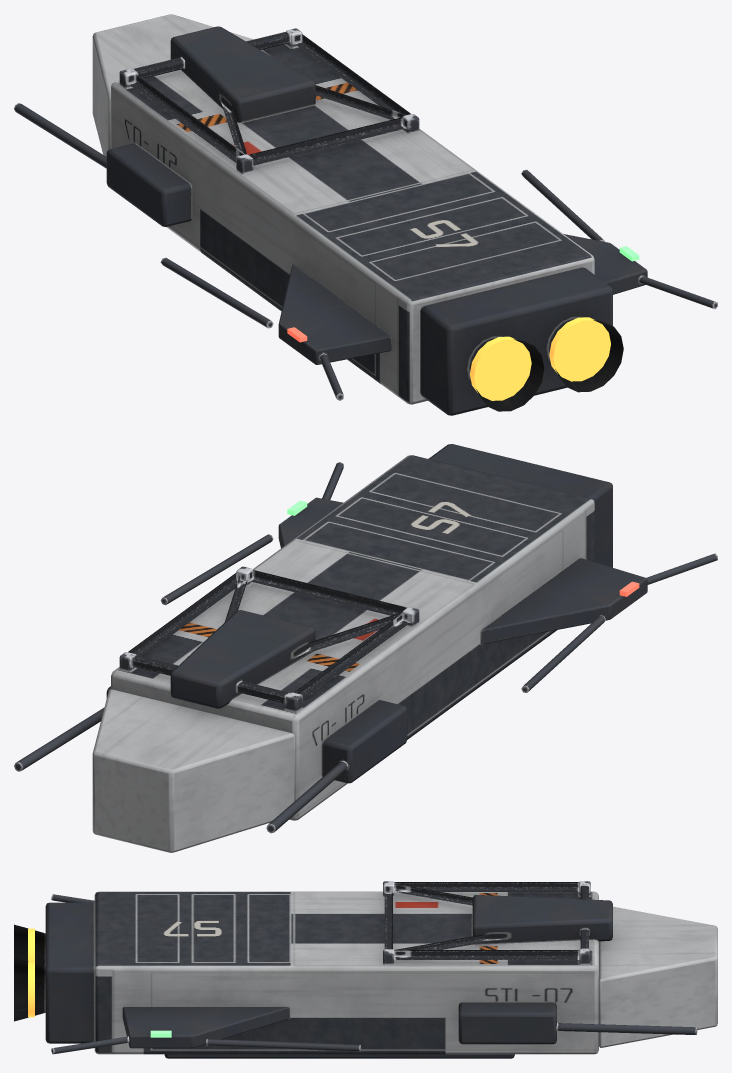
File: stiletto.glb
3 views of the same model, one above another, from view 1: azimuth 30°, elevation 25°; view 2: azimuth 150°, elevation 25°; view 3: azimuth 270°, elevation 25° (orthographic). The views are drawn at different scales.
Parts seen in each view (by area): view 1: Hull, Glow; view 2: Hull; view 3: Hull, Glow.
Boxes of the visible parts, bbox=[...] form: Hull: bbox=[14, 14, 717, 415]; Glow: bbox=[287, 246, 639, 400]; Hull: bbox=[14, 444, 717, 852]; Hull: bbox=[14, 881, 717, 1058]; Glow: bbox=[28, 928, 171, 1037].
Size of the model in its own units: 5.28 by 1.95 by 10.05.
Materials: 5 (1 with a texture image).
